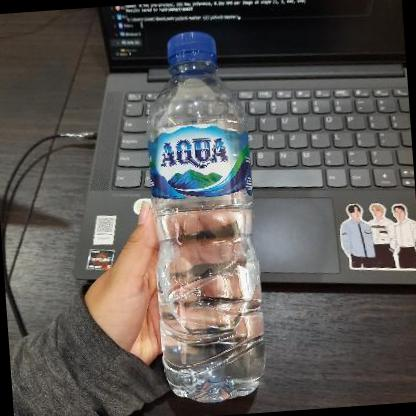plastic_bottles: (136, 25, 274, 408)
